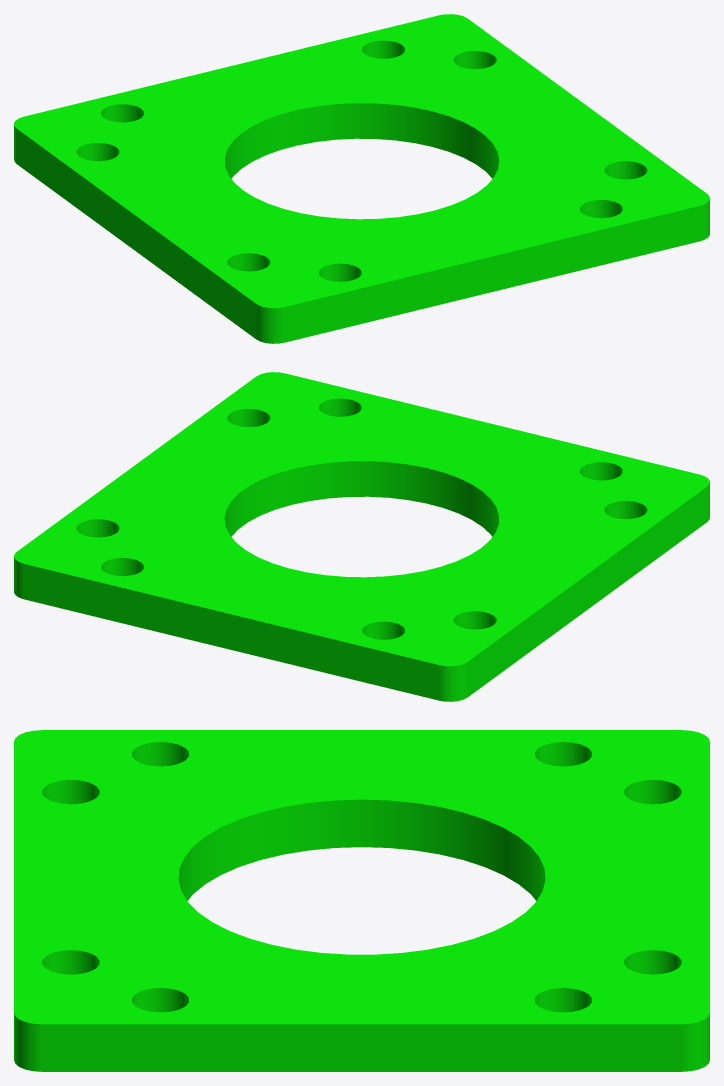
Rendered from Cube 1x1 V5_Top Mount (SM1).obj.
The picture shows the model from 3 angles, top to bottom: view 1: azimuth 30°, elevation 25°; view 2: azimuth 150°, elevation 25°; view 3: azimuth 270°, elevation 25°; orthographic projection. The views are drawn at different scales.
Visible parts, largest first — view 1: Solid1:37; view 2: Solid1:37; view 3: Solid1:37.
Boxes of the visible parts, <box> form: Solid1:37: <box>14,14,709,343</box>; Solid1:37: <box>14,372,709,701</box>; Solid1:37: <box>14,730,709,1071</box>.
Size of the model in its own units: 49.75 by 3.75 by 49.75.
